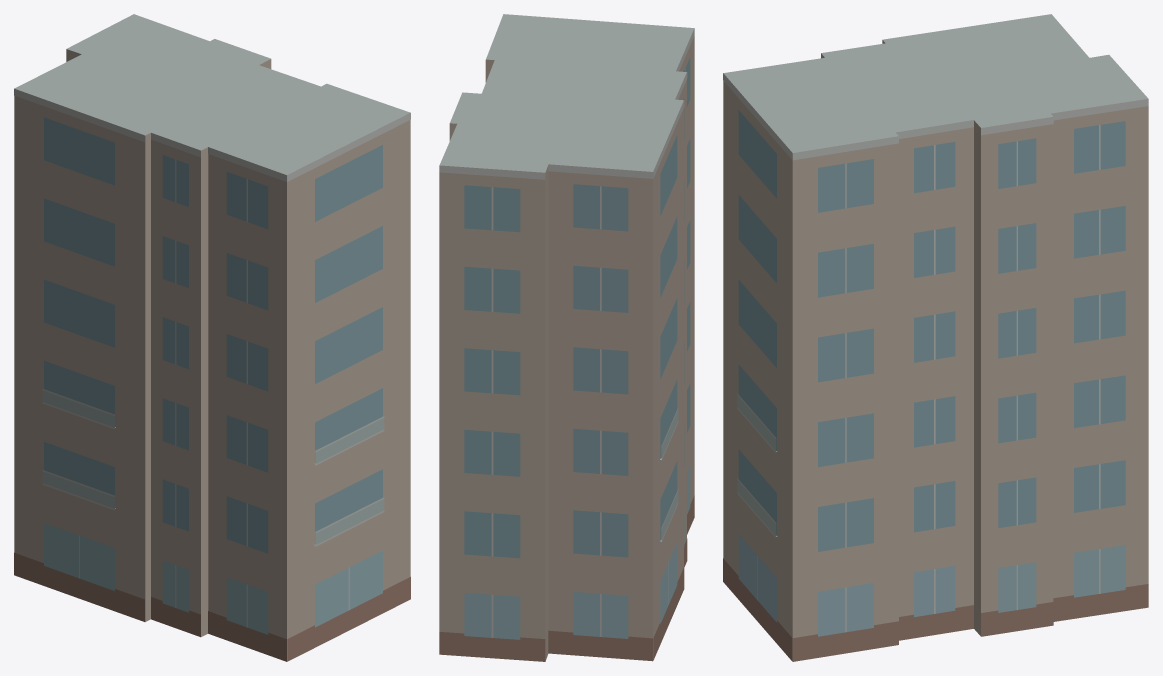
File: survey-upis-32748148.glb
3 views of the same model, side by side, from view 1: azimuth 30°, elevation 25°; view 2: azimuth 150°, elevation 25°; view 3: azimuth 270°, elevation 25° (orthographic). The views are drawn at different scales.
Visible parts, largest first — view 1: survey-upis-32748148.tmp; view 2: survey-upis-32748148.tmp; view 3: survey-upis-32748148.tmp.
Boxes of the visible parts, x1,y1,x2,y2 form: survey-upis-32748148.tmp: (14, 14, 410, 661); survey-upis-32748148.tmp: (439, 14, 694, 661); survey-upis-32748148.tmp: (723, 14, 1148, 661).
Size of the model in its own units: 10.04 by 17.1 by 12.97.
